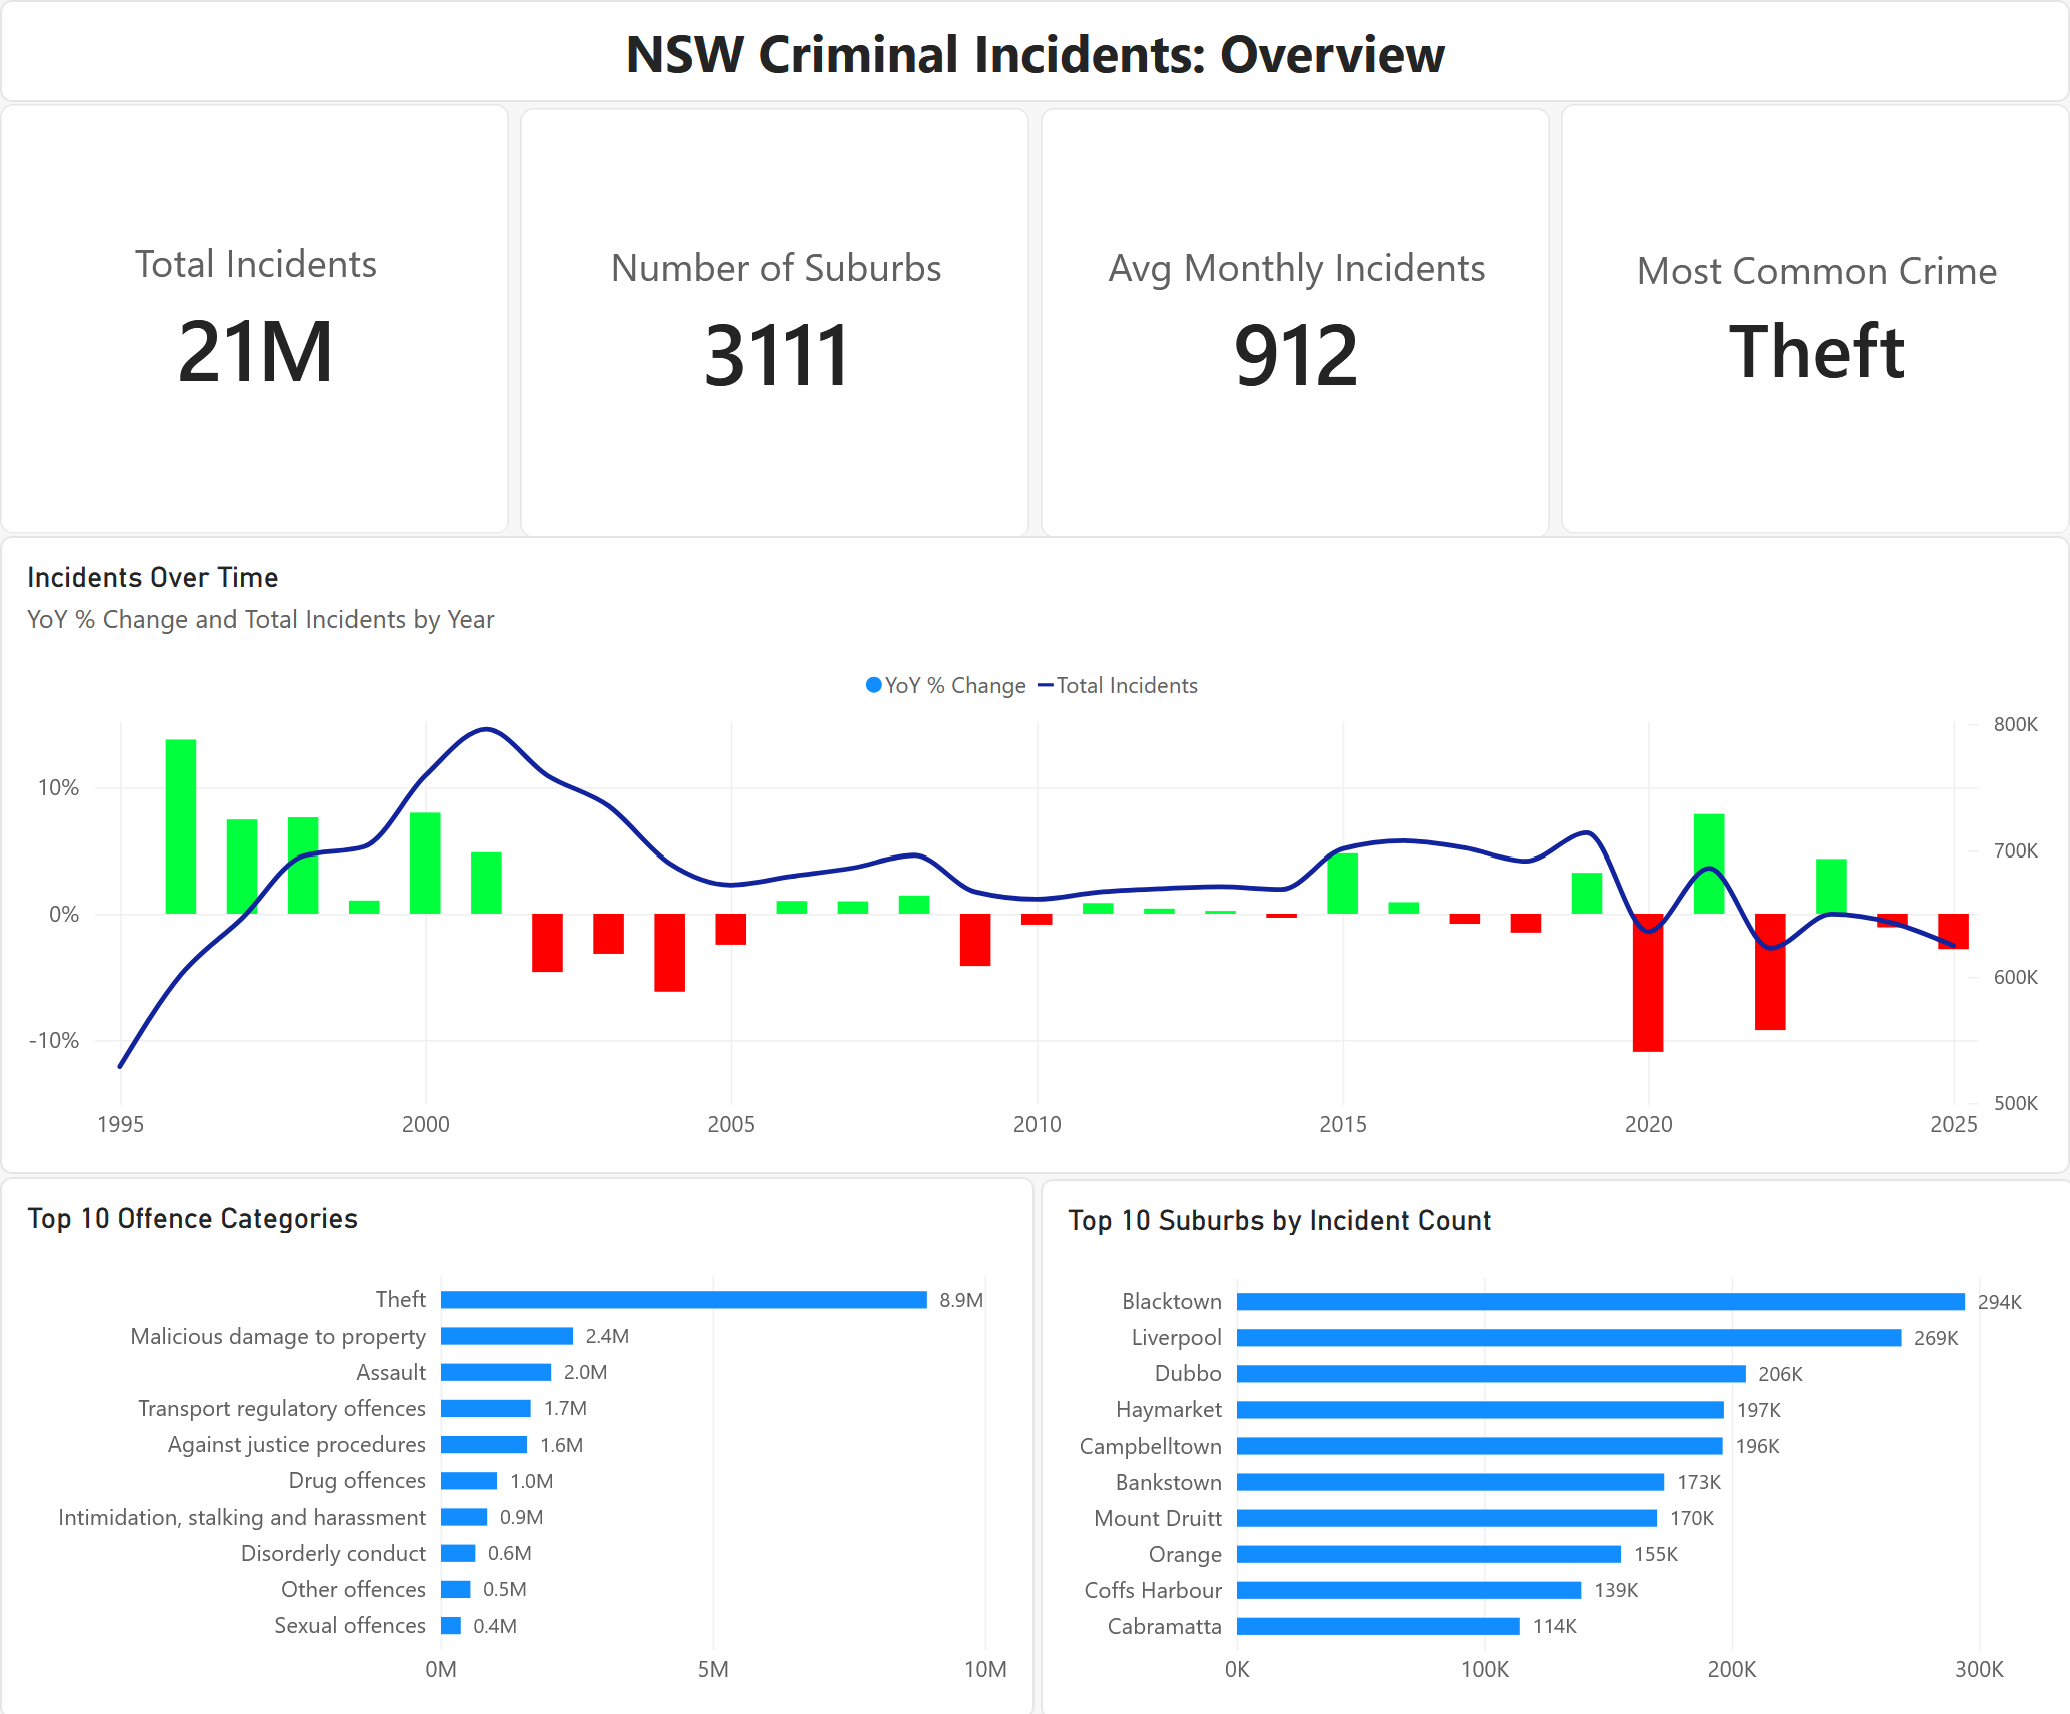

The dashboard page shown, as its layout file describes it:
{"tool":"powerbi","page":{"name":"Overview","canvas":[1920,1080],"ordinal":0},"visuals":[{"type":"cardVisual","title":"TOTAL INCIDENTS (ALL TIME)","fields":{"Data":["nsw_incidents.Static Total Incidents"]},"box":[74.3,65.4,320,270],"z":0},{"type":"cardVisual","fields":{"Data":["Count(incidents_by_suburb_long.suburb)"]},"box":[401.1,68.2,320,270],"z":1000},{"type":"cardVisual","fields":{"Data":["Avg(incidents_by_nsw_long.incident_count)"]},"box":[727.9,68.2,320,270],"z":2000},{"type":"cardVisual","fields":{"Data":["nsw_incidents.Most Common Category 2"]},"box":[1054.6,64.9,320,270],"z":3000},{"type":"barChart","title":"Top 10 Suburbs by Incident Count","fields":{"Y":["Sum(incidents_by_suburb_long.incident_count)"],"Category":["incidents_by_suburb_long.suburb"]},"box":[727.7,740.2,650,340],"z":4000},{"type":"textbox","box":[73.7,0,1300.9,64],"z":5000},{"type":"barChart","title":"Top 10 Offence Categories","fields":{"Category":["nsw_incidents.offence_category"],"Y":["Sum(nsw_incidents.incident_count)"]},"box":[73.7,738.8,650,340.9],"z":6000},{"type":"lineClusteredColumnComboChart","title":"Incidents Over Time","fields":{"Category":["DateTable.Year"],"Y":["DateTable.YoY % Change"],"Y2":["Sum(nsw_incidents.incident_count)"]},"box":[73.7,336.7,1300.9,400.7],"z":7000}]}

Visuals, with their boxes on the page's 1920x1080 design canvas (x1, y1, x2, y2). These are canvas units, not pixel positions in the 2070x1714 screenshot, which may show the page scaled, cropped or inside an application window:
"TOTAL INCIDENTS (ALL TIME)" cardVisual: bbox=(74, 65, 394, 335)
cardVisual - Count(incidents_by_suburb_long.suburb): bbox=(401, 68, 721, 338)
cardVisual - Avg(incidents_by_nsw_long.incident_count): bbox=(728, 68, 1048, 338)
cardVisual - nsw_incidents.Most Common Category 2: bbox=(1055, 65, 1375, 335)
"Top 10 Suburbs by Incident Count" barChart: bbox=(728, 740, 1378, 1080)
textbox: bbox=(74, 0, 1375, 64)
"Top 10 Offence Categories" barChart: bbox=(74, 739, 724, 1080)
"Incidents Over Time" lineClusteredColumnComboChart: bbox=(74, 337, 1375, 737)
